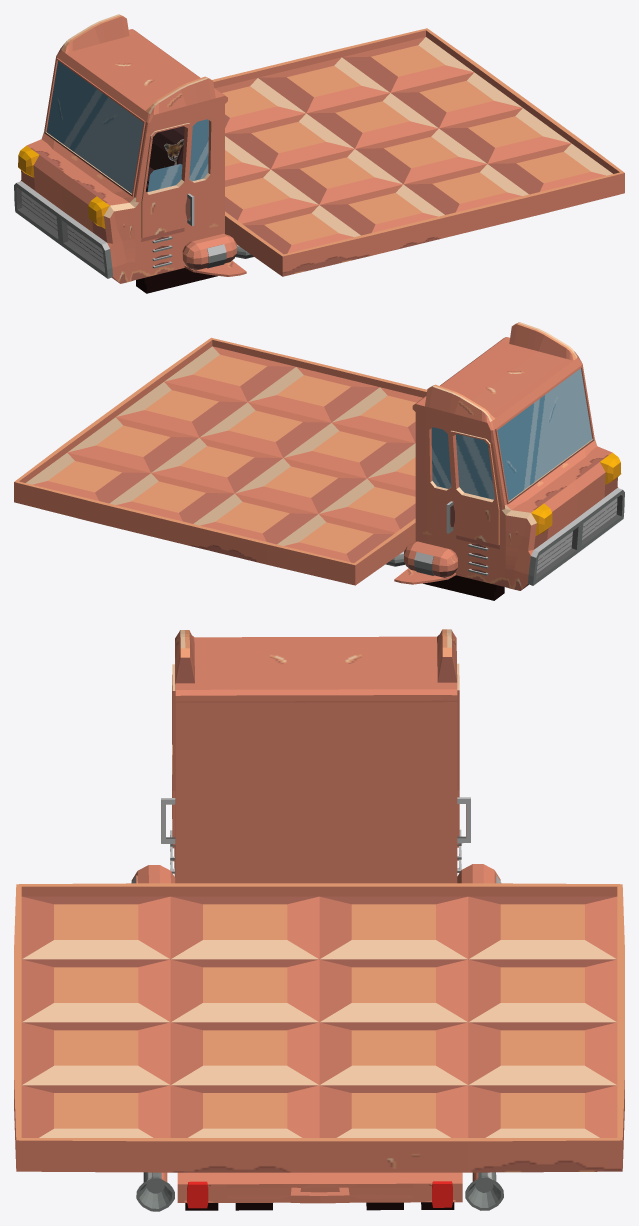
The model's file is camtar1.fbx.
3 views of the same model, one above another, from view 1: azimuth 30°, elevation 25°; view 2: azimuth 150°, elevation 25°; view 3: azimuth 270°, elevation 25° (orthographic). The views are drawn at different scales.
Visible parts, largest first — view 1: Plateform, Truck.001, porte, Truck, WindowsL; view 2: Plateform, Truck.001, porte, WindowsR, Truck; view 3: Plateform, Truck.001, Truck, porte.
Part boxes in pixels (bbox=[...]): Plateform: bbox=[212, 28, 624, 276]; Truck.001: bbox=[14, 14, 253, 293]; porte: bbox=[141, 123, 190, 237]; Truck: bbox=[182, 233, 236, 270]; WindowsL: bbox=[147, 164, 182, 191]; Plateform: bbox=[14, 337, 427, 585]; Truck.001: bbox=[385, 322, 624, 600]; porte: bbox=[450, 430, 499, 545]; WindowsR: bbox=[456, 434, 494, 499]; Truck: bbox=[404, 541, 457, 577]; Plateform: bbox=[14, 883, 624, 1172]; Truck.001: bbox=[136, 629, 503, 1211]; Truck: bbox=[131, 864, 501, 883]; porte: bbox=[172, 663, 459, 845].
Size of the model in its own units: 579 by 228 by 410.
Materials: 3 (3 with a texture image).
